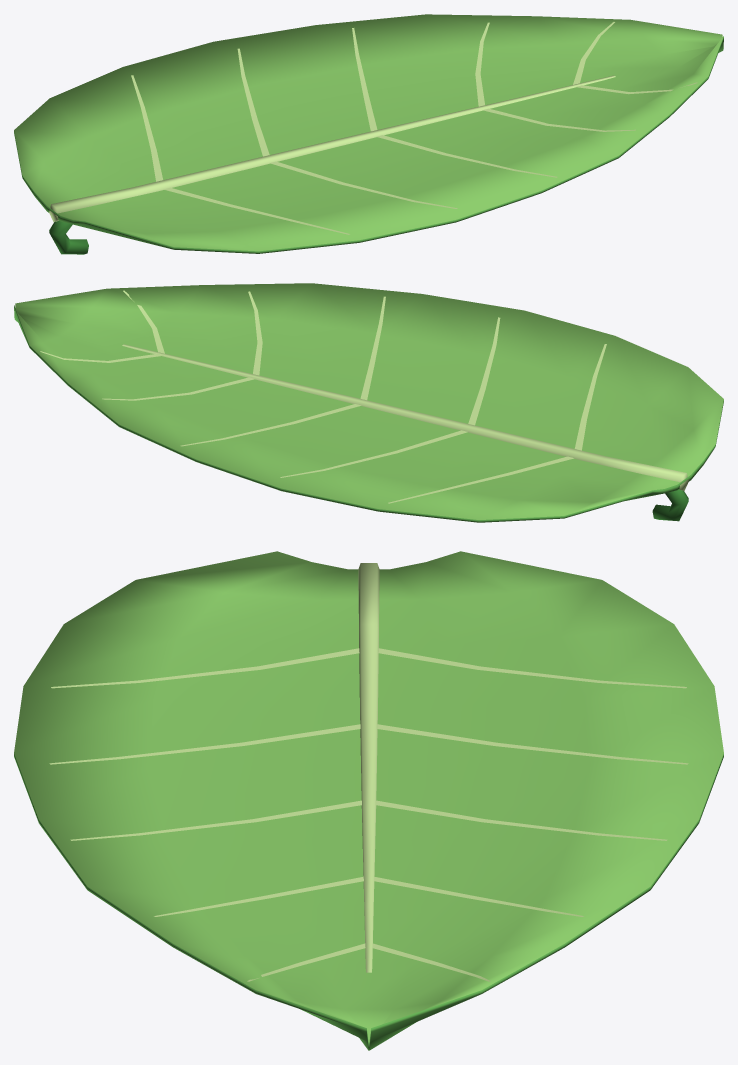
The model's file is leaf-pad.glb.
3 renders of one model, top to bottom at view 1: azimuth 30°, elevation 25°; view 2: azimuth 150°, elevation 25°; view 3: azimuth 270°, elevation 25°, orthographic. The views are drawn at different scales.
Visible parts, largest first — view 1: leaf-pad; view 2: leaf-pad; view 3: leaf-pad.
Part boxes in pixels (<box>): leaf-pad: <box>14,14,723,254</box>; leaf-pad: <box>14,283,723,522</box>; leaf-pad: <box>14,551,723,1050</box>.
Size of the model in its own units: 16.11 by 1.4 by 10.07.
